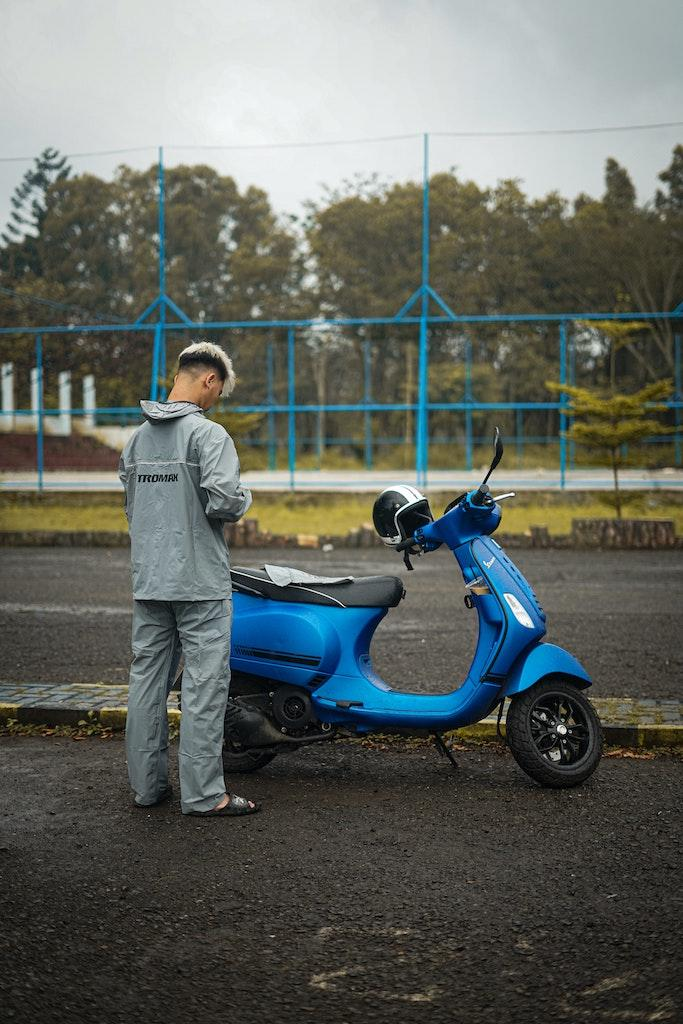helmet: (372, 484, 438, 572)
nohelmet: (167, 340, 237, 415)
